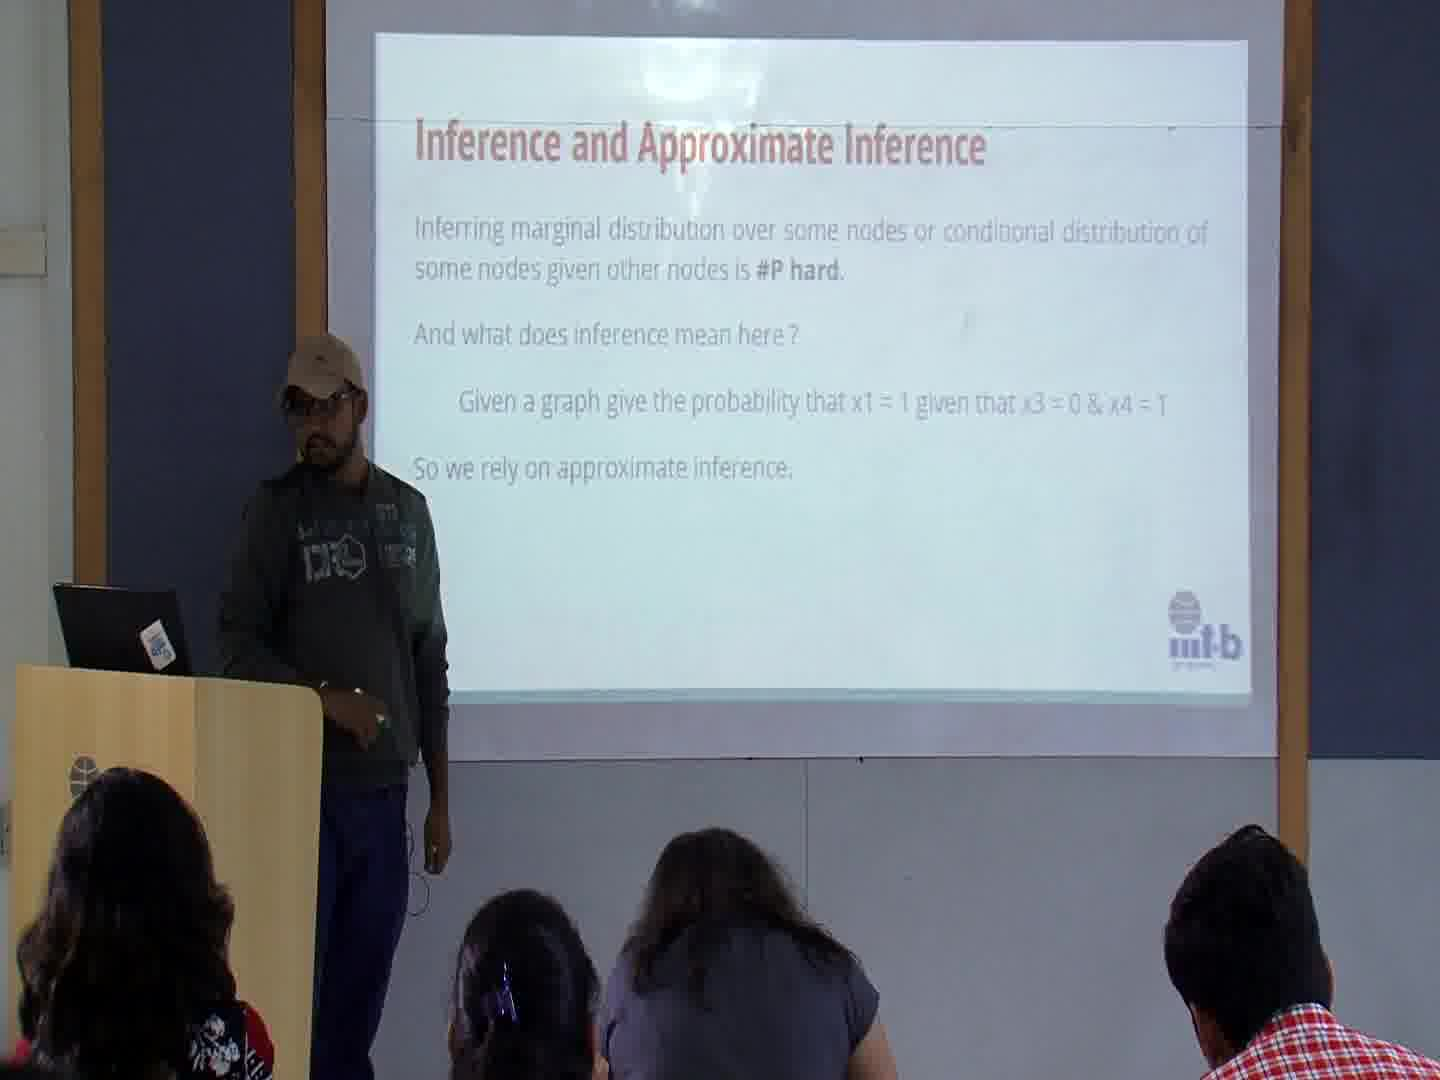slide: (372, 31, 1250, 702)
